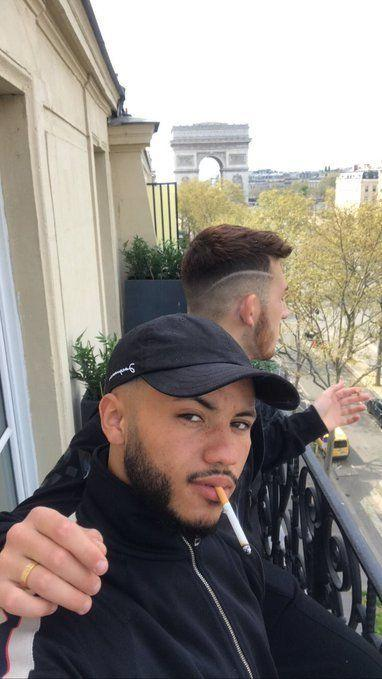cigarette: (214, 486, 252, 555)
